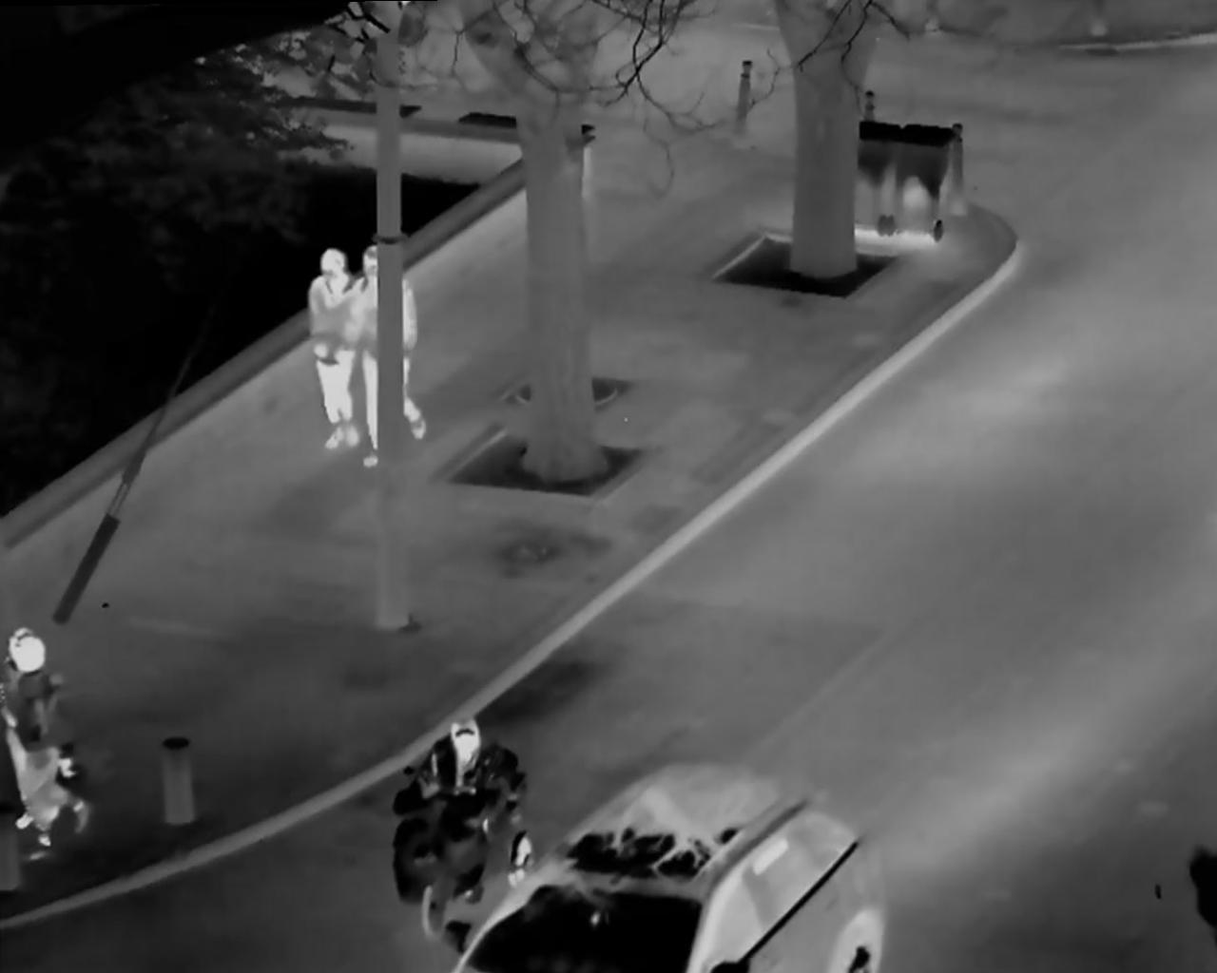person: (396, 702, 524, 903), (348, 238, 429, 458), (297, 226, 359, 461)
